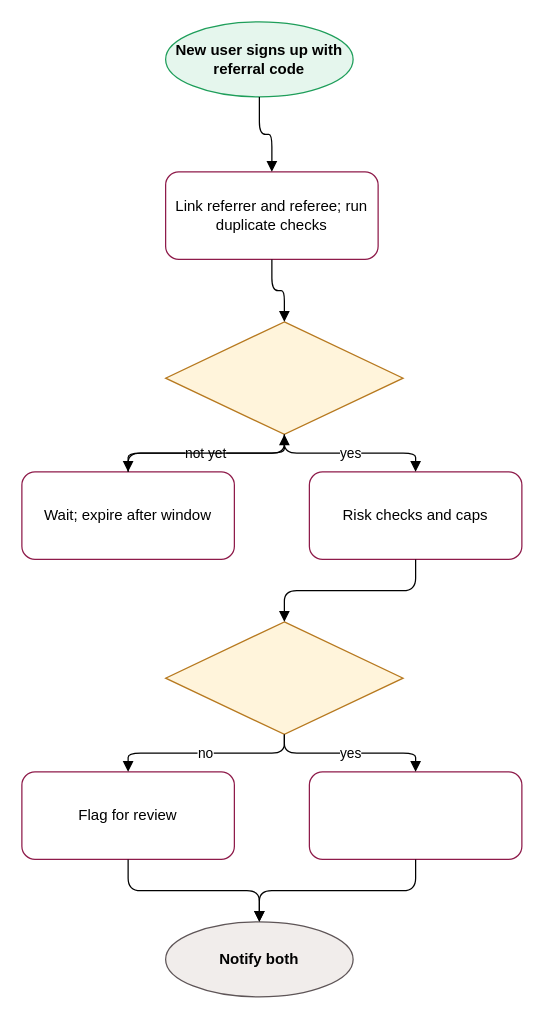
Some shapes in this 544 by 1019 pixel diagram are drawn without their labels. Each missing label, with the box of its shape:
Credit referral rewards: (308, 771, 522, 859)
Passes?: (164, 621, 403, 734)
Referee completes first real transaction?: (164, 321, 403, 434)
